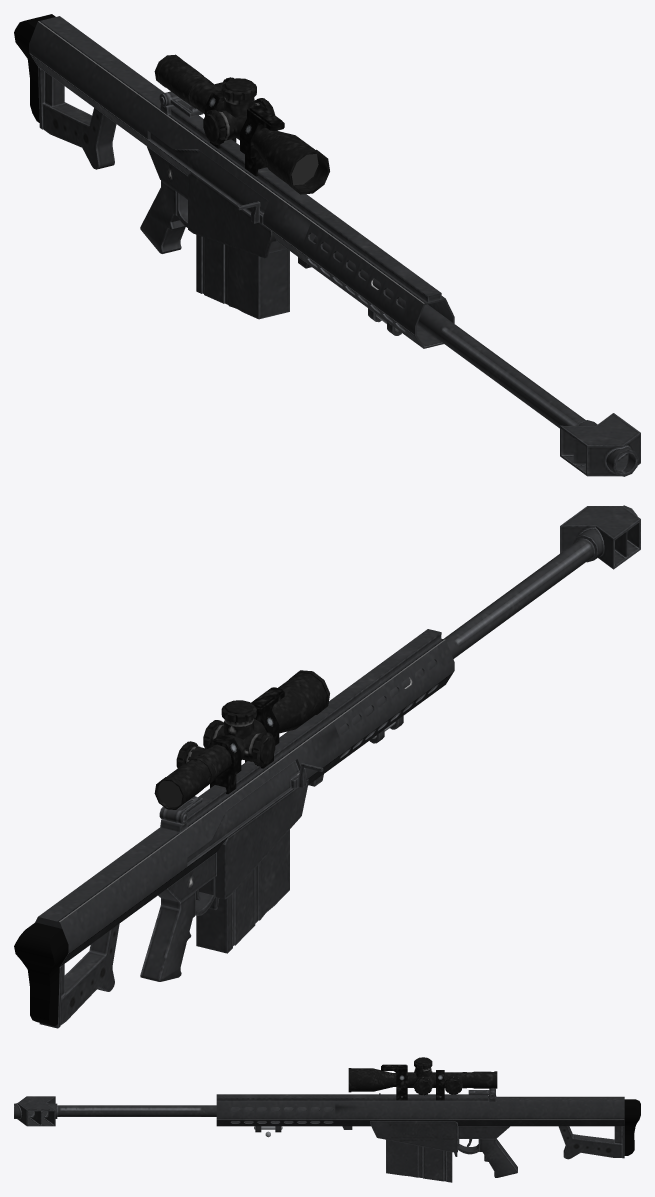
Rendered from 巴雷特M82A1.FBX.
3 views of the same model, one above another, from view 1: azimuth 30°, elevation 25°; view 2: azimuth 150°, elevation 25°; view 3: azimuth 270°, elevation 25° (orthographic). The views are drawn at different scales.
Parts seen in each view (by area): view 1: 巴雷特M82A1; view 2: 巴雷特M82A1; view 3: 巴雷特M82A1.
Boxes of the visible parts, x1,y1,x2,y2 form: 巴雷特M82A1: (14, 14, 640, 476); 巴雷特M82A1: (14, 505, 640, 1028); 巴雷特M82A1: (14, 1057, 640, 1182).
Size of the model in its own units: 0.1119 by 0.3354 by 1.61.
